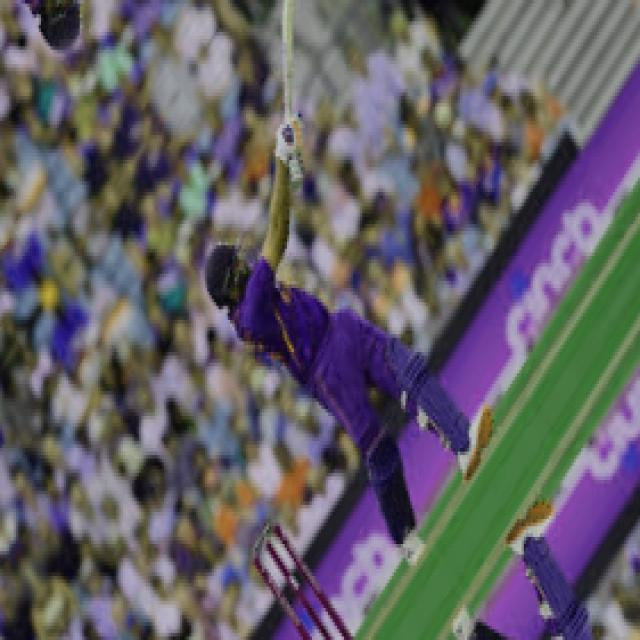toe: (280, 0, 298, 14)
